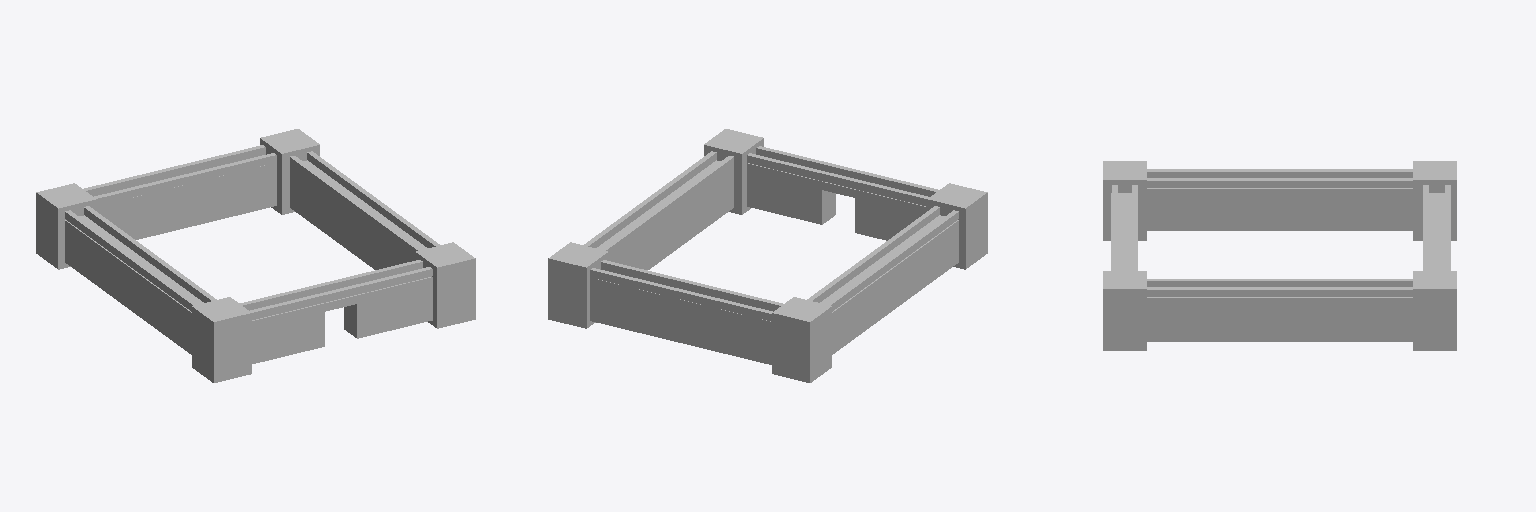
File: castle_exterior_bBoxes.obj
3 views of the same model, side by side, from view 1: azimuth 30°, elevation 25°; view 2: azimuth 150°, elevation 25°; view 3: azimuth 270°, elevation 25° (orthographic).
Visible parts, largest first — view 1: Cube.002_Cube.003, Cube_Cube.001, Cube.001_Cube.002, Cube.005_Cube.006, Cube.008_Cube.009, Cube.004_Cube.005, Cube.007_Cube.008, Cube.006_Cube.007, Cube.003_Cube.004, Cube.017_Cube.018, Cube.015_Cube.016, Cube.012_Cube.013 (+5 smaller); view 2: Cube.002_Cube.003, Cube_Cube.001, Cube.001_Cube.002, Cube.006_Cube.007, Cube.008_Cube.009, Cube.003_Cube.004, Cube.005_Cube.006, Cube.007_Cube.008, Cube.004_Cube.005, Cube.012_Cube.013, Cube.016_Cube.017, Cube.015_Cube.016 (+5 smaller); view 3: Cube.001_Cube.002, Cube_Cube.001, Cube.003_Cube.004, Cube.004_Cube.005, Cube.010_Cube.011, Cube.013_Cube.014, Cube.011_Cube.012, Cube.005_Cube.006, Cube.014_Cube.015, Cube.006_Cube.007, Cube.002_Cube.003, Cube.007_Cube.008.
Part boxes in pixels (x1,y1,x2,y2): Cube.002_Cube.003: (94,155,276,239); Cube_Cube.001: (65,215,203,354); Cube.001_Cube.002: (290,160,427,269); Cube.005_Cube.006: (192,297,251,382); Cube.008_Cube.009: (344,277,432,338); Cube.004_Cube.005: (415,242,475,328); Cube.007_Cube.008: (252,303,324,363); Cube.006_Cube.007: (36,183,96,269); Cube.003_Cube.004: (260,129,319,214); Cube.017_Cube.018: (250,267,432,319); Cube.015_Cube.016: (94,153,276,205); Cube.012_Cube.013: (84,145,265,196); Cube.002_Cube.003: (590,278,771,364); Cube_Cube.001: (820,215,958,354); Cube.001_Cube.002: (596,160,733,269); Cube.006_Cube.007: (772,297,831,382); Cube.008_Cube.009: (747,163,835,224); Cube.003_Cube.004: (548,242,608,328); Cube.005_Cube.006: (927,183,987,269); Cube.007_Cube.008: (855,189,926,240); Cube.004_Cube.005: (704,129,763,214); Cube.012_Cube.013: (590,268,772,321); Cube.016_Cube.017: (747,153,929,206); Cube.015_Cube.016: (601,260,782,311); Cube.001_Cube.002: (1147,297,1412,341); Cube_Cube.001: (1147,188,1412,230); Cube.003_Cube.004: (1413,271,1456,350); Cube.004_Cube.005: (1103,271,1146,350); Cube.010_Cube.011: (1147,178,1412,187); Cube.013_Cube.014: (1147,287,1412,296); Cube.011_Cube.012: (1147,169,1412,177); Cube.005_Cube.006: (1103,161,1146,240); Cube.014_Cube.015: (1147,279,1412,286); Cube.006_Cube.007: (1413,161,1456,240); Cube.002_Cube.003: (1429,193,1444,270); Cube.007_Cube.008: (1111,193,1131,229).
Size of the model in its own units: 53.2 by 11.88 by 62.41.